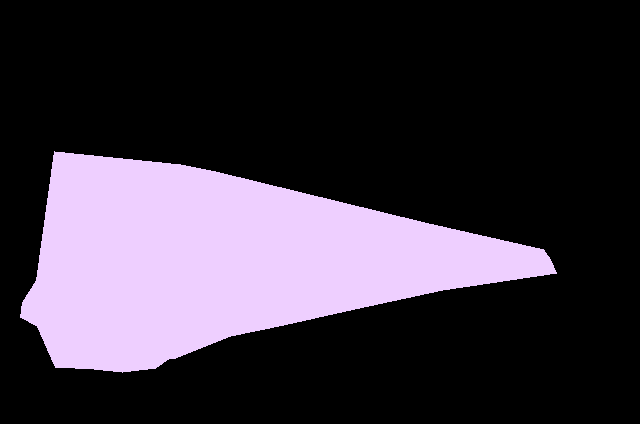Train: (20, 151, 557, 373)
